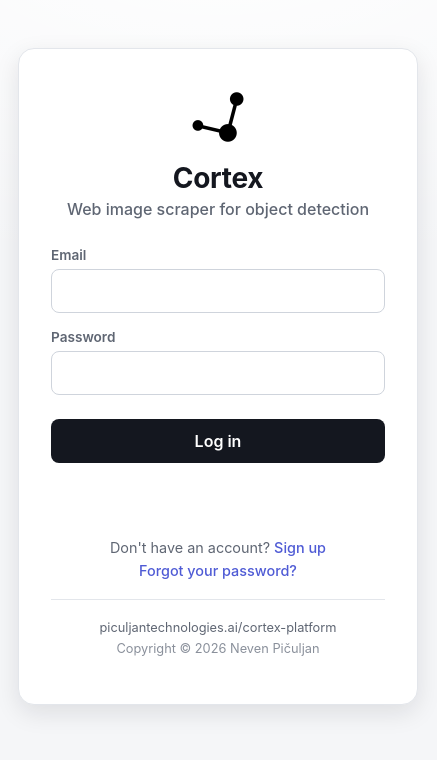
Test: a network error shows the error text
The width and height of the screenshot is (437, 760).
Step 1. Type "a@b.c" into the field labelled "Email" → (218, 290), box [51,268,385,312]
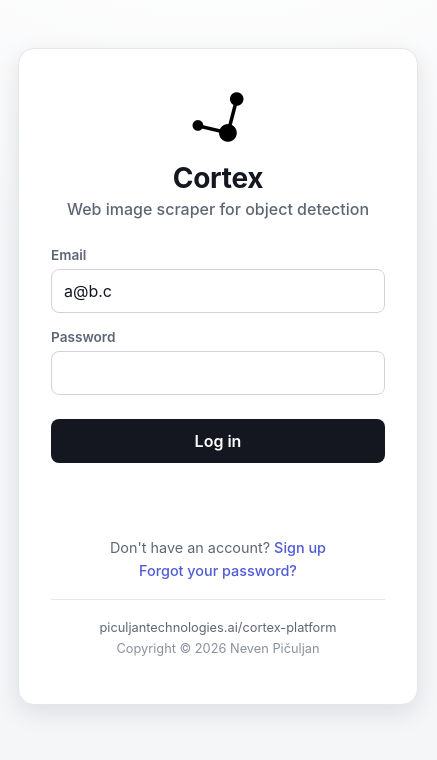
Step 2. Type "secret1" into the password field labelled "Password" → (218, 372), box [51,350,385,394]
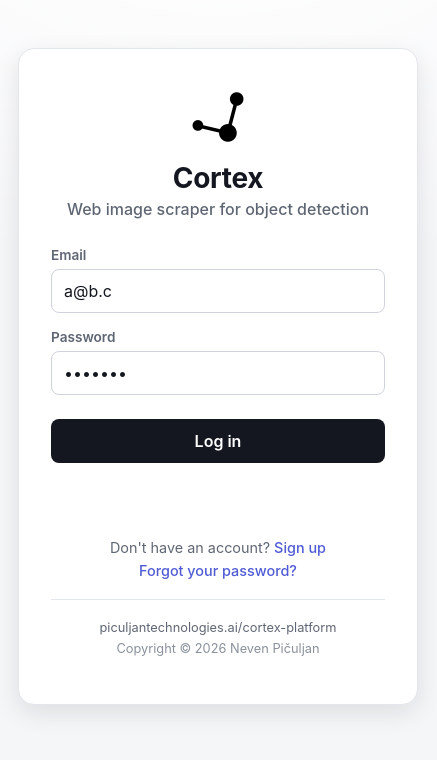
Step 3. Click the button "Log in" → (218, 440), box [51,418,385,462]
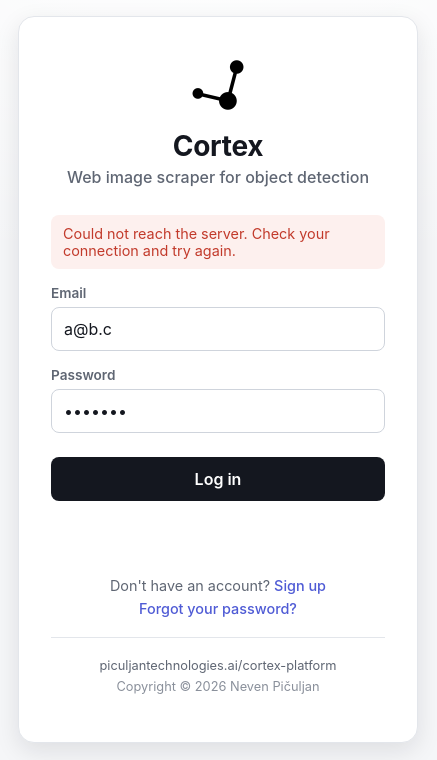
expect the message reads "Could not reach the server. Check your connection and try again.": met, box [63,225,330,259]
